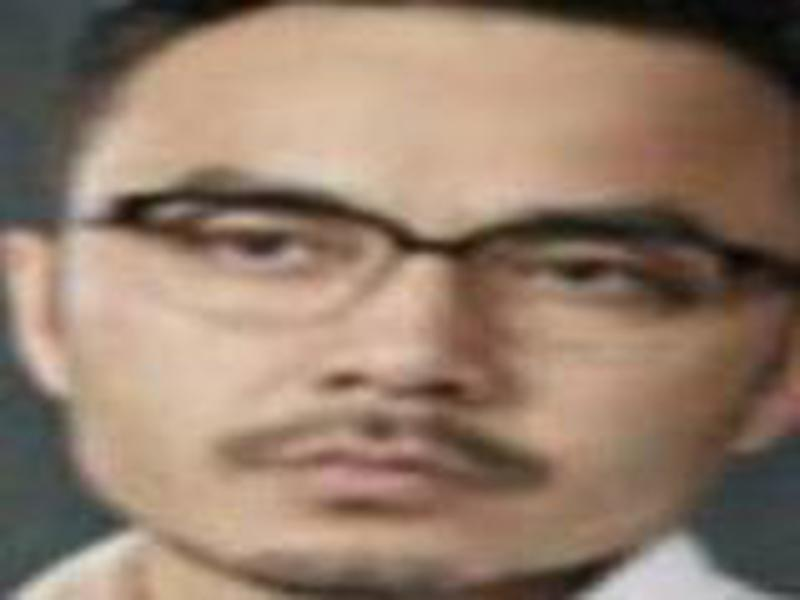without_mask: (49, 14, 778, 589)
